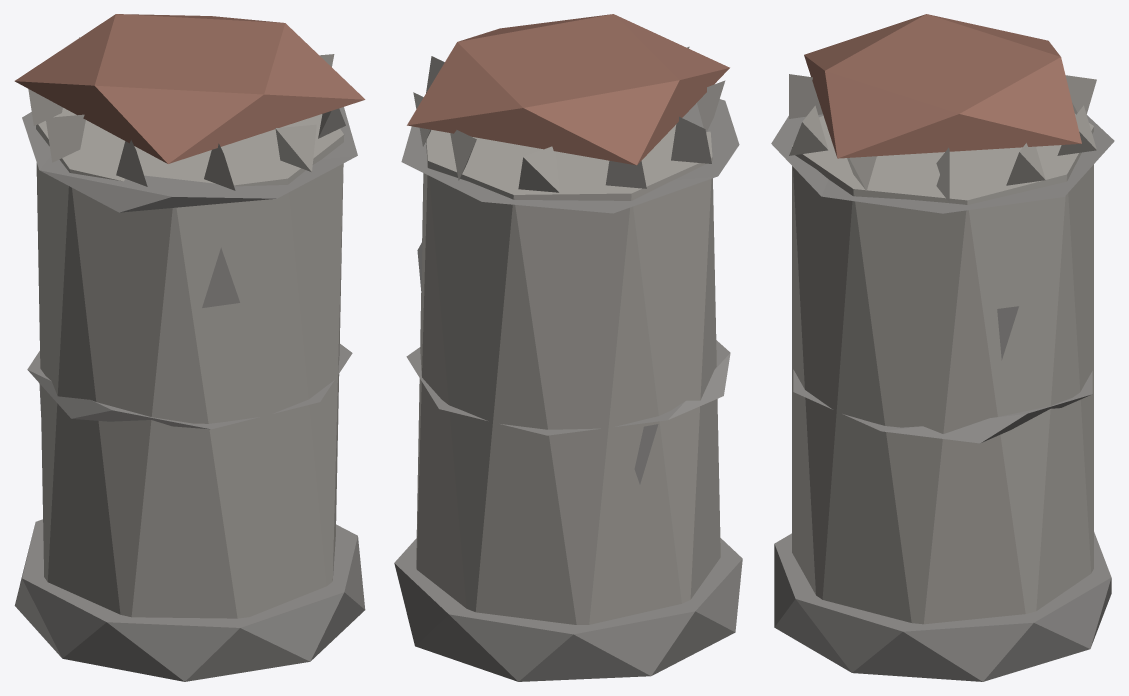
Rendered from tower_round_lod.glb.
The picture shows the model from 3 angles, left to right: view 1: azimuth 30°, elevation 25°; view 2: azimuth 150°, elevation 25°; view 3: azimuth 270°, elevation 25°; orthographic projection.
Visible parts, largest first — view 1: tower_round_lod; view 2: tower_round_lod; view 3: tower_round_lod.
Boxes of the visible parts, bbox=[...] form: tower_round_lod: bbox=[14, 14, 365, 681]; tower_round_lod: bbox=[394, 14, 742, 681]; tower_round_lod: bbox=[771, 14, 1114, 681].
Size of the model in its own units: 4.34 by 7.61 by 4.34.
